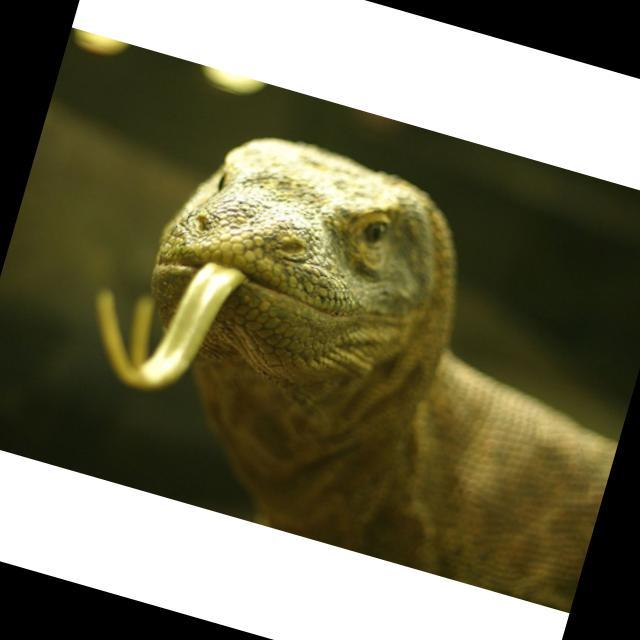KomodoDragon: (49, 96, 640, 610)
